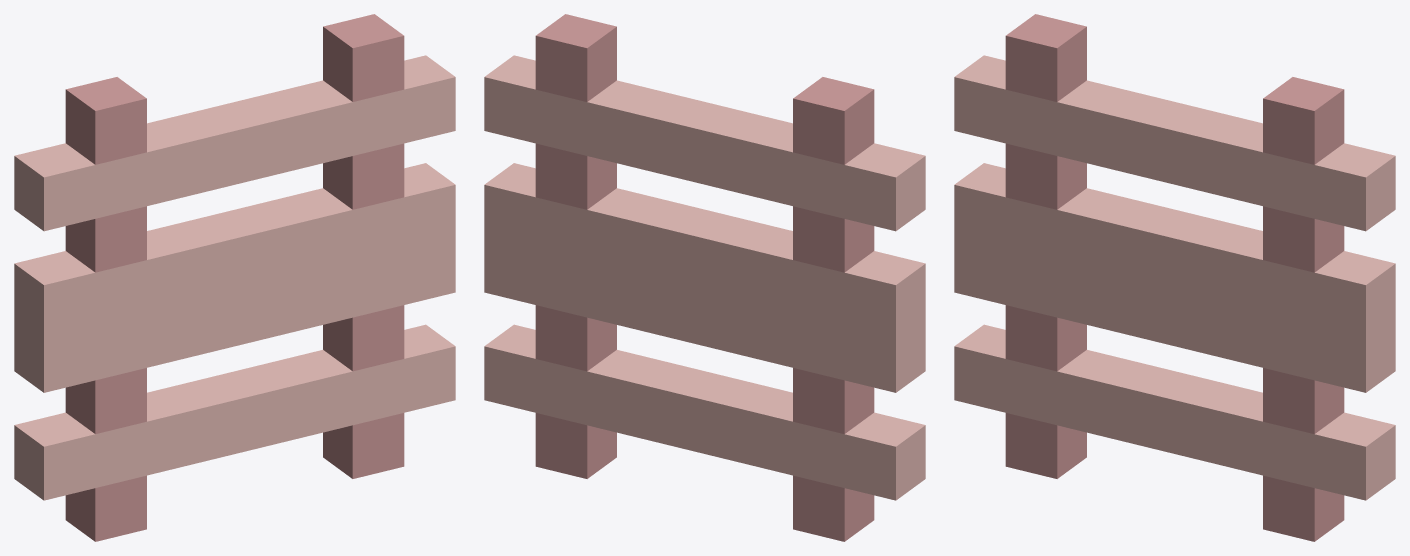
Rendered from Cherry Ladder.glb.
The picture shows the model from 3 angles, left to right: view 1: azimuth 30°, elevation 25°; view 2: azimuth 150°, elevation 25°; view 3: azimuth 330°, elevation 25°; orthographic projection.
Visible parts, largest first — view 1: generated(Clone); view 2: generated(Clone); view 3: generated(Clone).
Part boxes in pixels (x1,y1,x2,y2): generated(Clone): (14,14,455,541); generated(Clone): (484,14,925,541); generated(Clone): (954,14,1395,541).
Size of the model in its own units: 8 by 8 by 1.
Materials: 1 (1 with a texture image).
